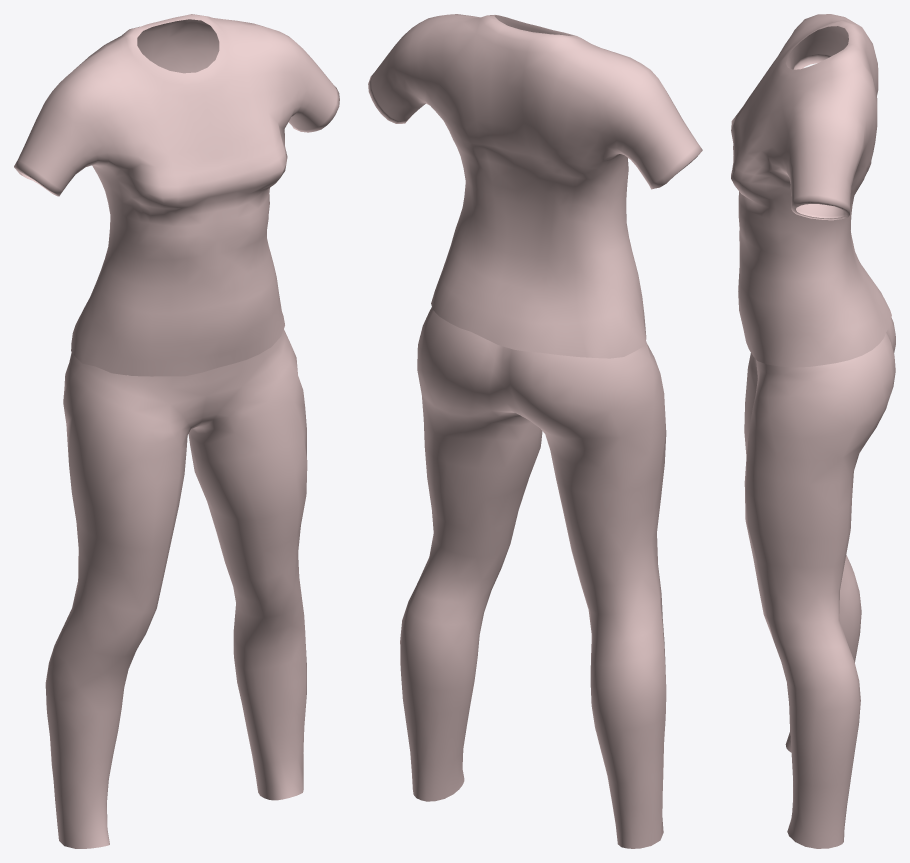
The model's file is f-casualsuit01.glb.
The picture shows the model from 3 angles, left to right: view 1: azimuth 30°, elevation 25°; view 2: azimuth 150°, elevation 25°; view 3: azimuth 270°, elevation 25°; orthographic projection. The views are drawn at different scales.
Parts seen in each view (by area): view 1: f-casualsuit01; view 2: f-casualsuit01; view 3: f-casualsuit01.
Part boxes in pixels (x1,y1,x2,y2): f-casualsuit01: (14, 14, 339, 848); f-casualsuit01: (368, 14, 702, 848); f-casualsuit01: (731, 14, 895, 848).
Bounding box in the file's own units: 0.523 × 1.24 × 0.2447.
